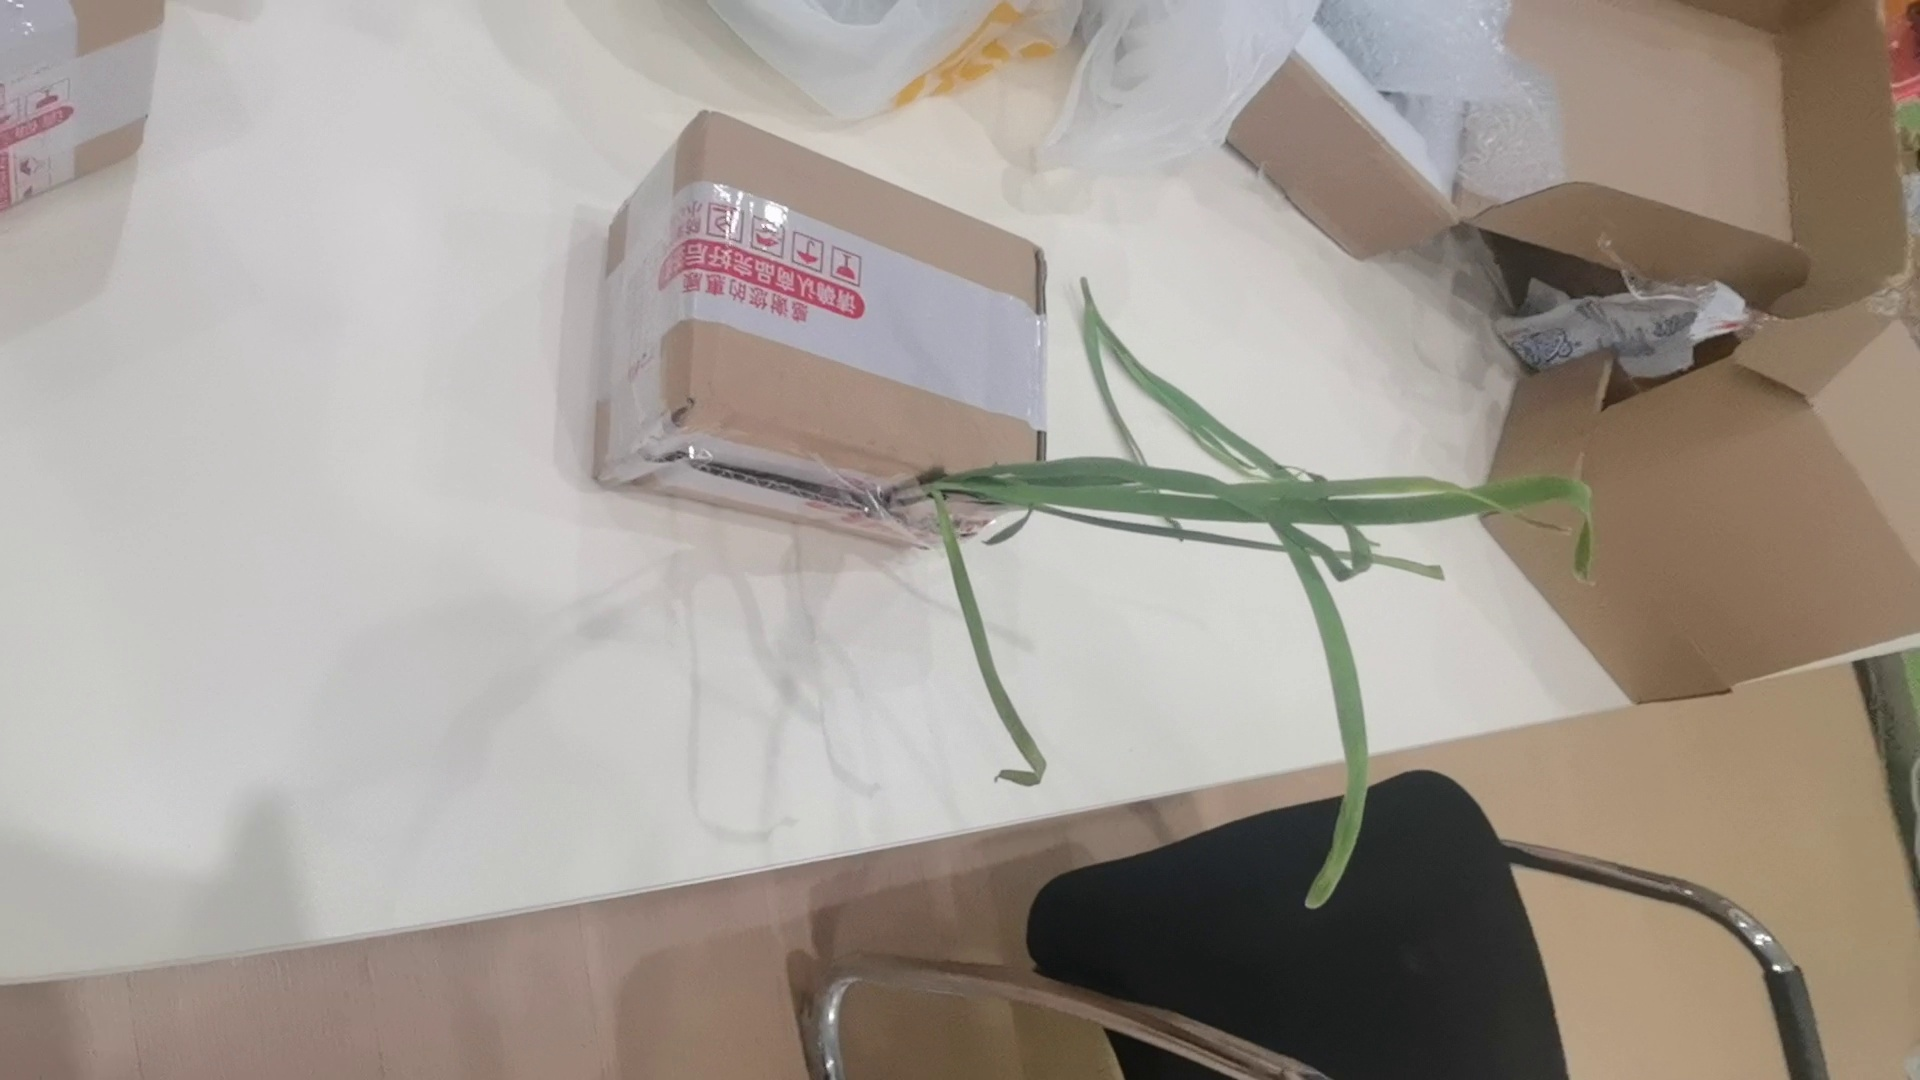chives: (885, 422, 1680, 957), (1076, 281, 1266, 444)
